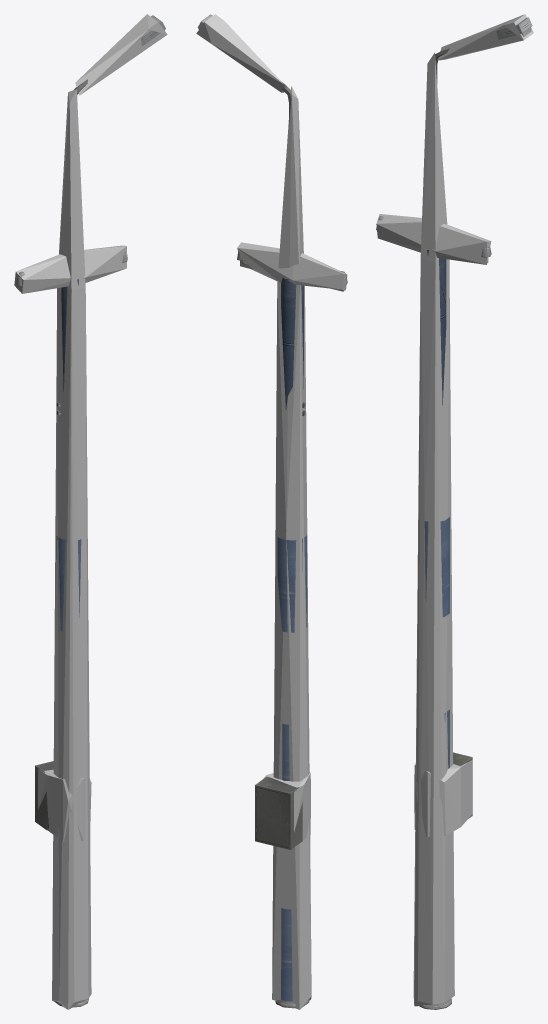
Rendered from SM_street_light_02.fbx.
The picture shows the model from 3 angles, left to right: view 1: azimuth 30°, elevation 25°; view 2: azimuth 150°, elevation 25°; view 3: azimuth 330°, elevation 25°; orthographic projection. The views are drawn at different scales.
Visible parts, largest first — view 1: SM_street_light_02_ConvexHulls, SM_street_light_02; view 2: SM_street_light_02_ConvexHulls, SM_street_light_02; view 3: SM_street_light_02_ConvexHulls, SM_street_light_02.
Boxes of the visible parts, x1,y1,x2,y2 form: SM_street_light_02_ConvexHulls: [14, 14, 167, 1009]; SM_street_light_02: [16, 15, 165, 1007]; SM_street_light_02_ConvexHulls: [196, 14, 347, 1009]; SM_street_light_02: [197, 14, 347, 1008]; SM_street_light_02_ConvexHulls: [376, 14, 533, 1006]; SM_street_light_02: [376, 17, 532, 1009].
Size of the model in its own units: 166 by 55.41 by 1046.
2 materials, 1 textured.
